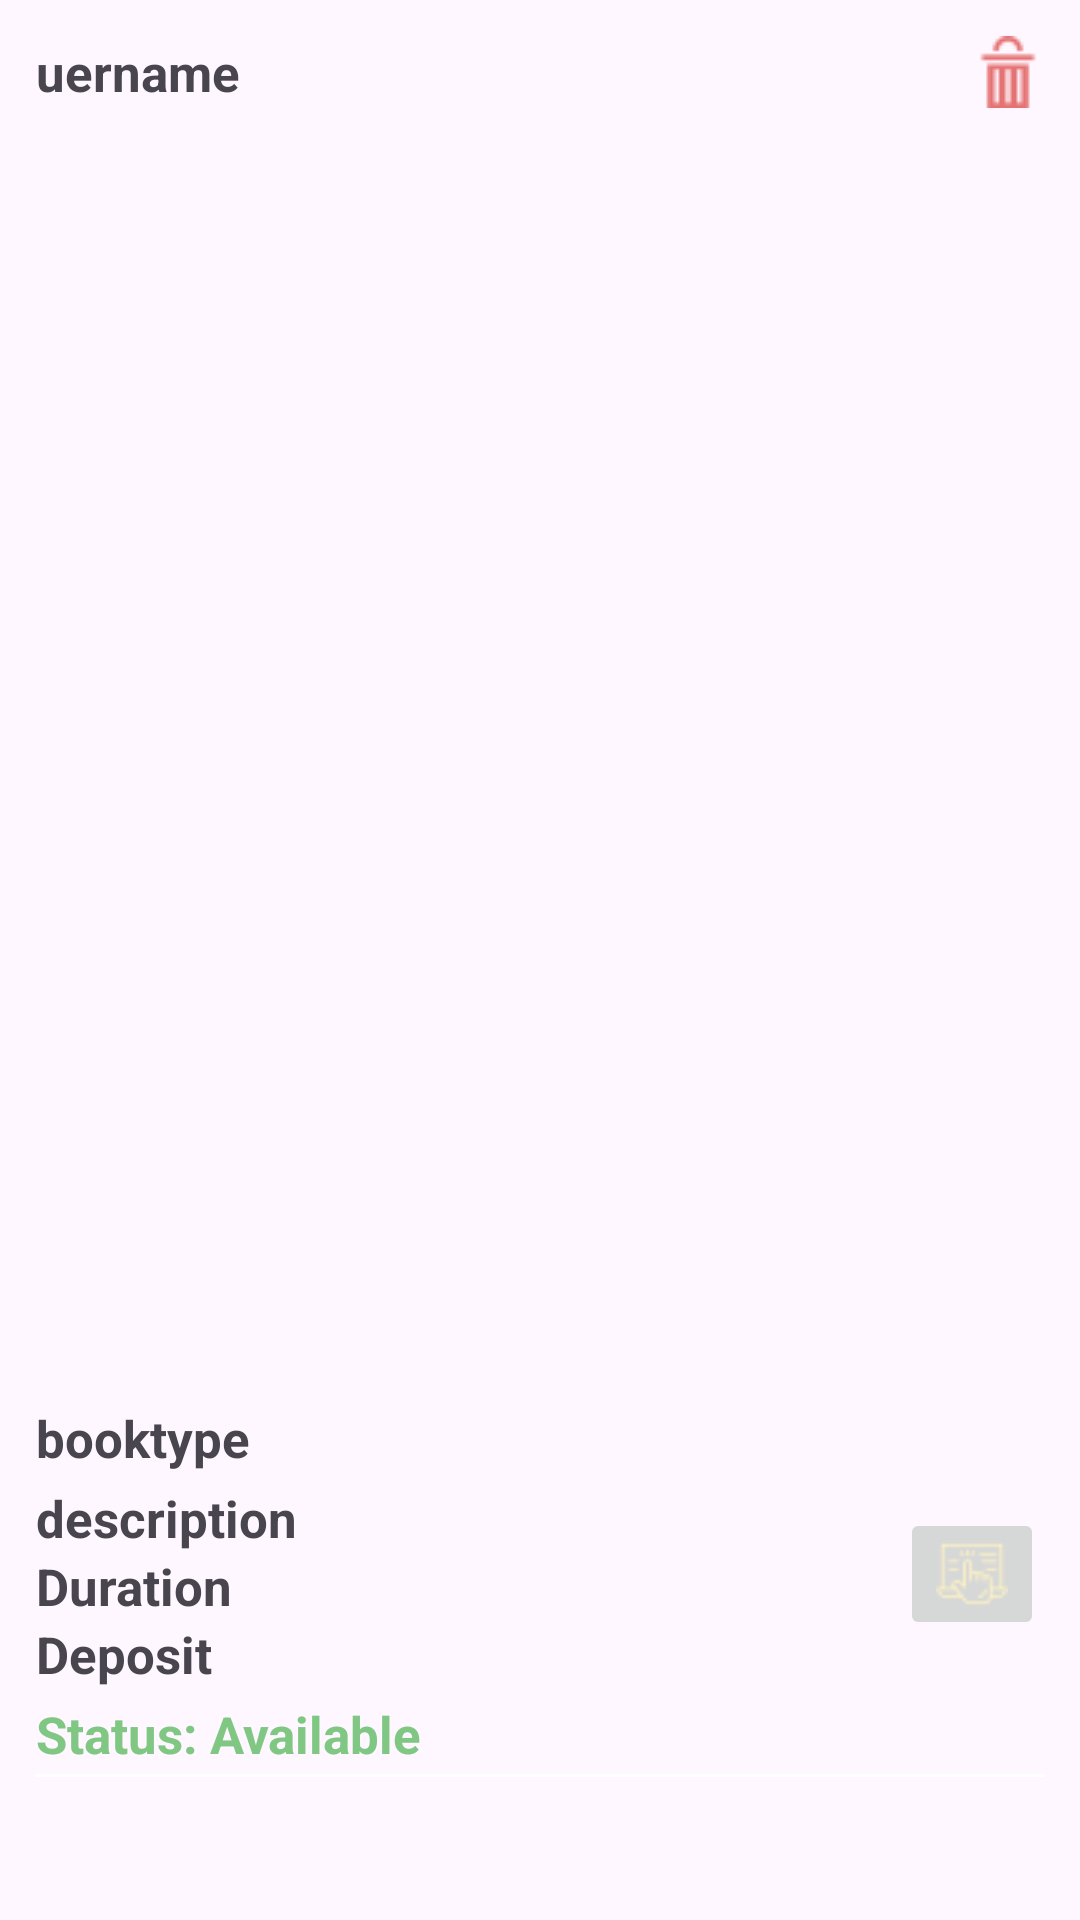

Icon bounding boxes for this 1080*1920 phone screenshot, format (x1, y1, x2, y2):
Delete: (980, 36, 1036, 108)
request: (912, 1526, 1032, 1622)
